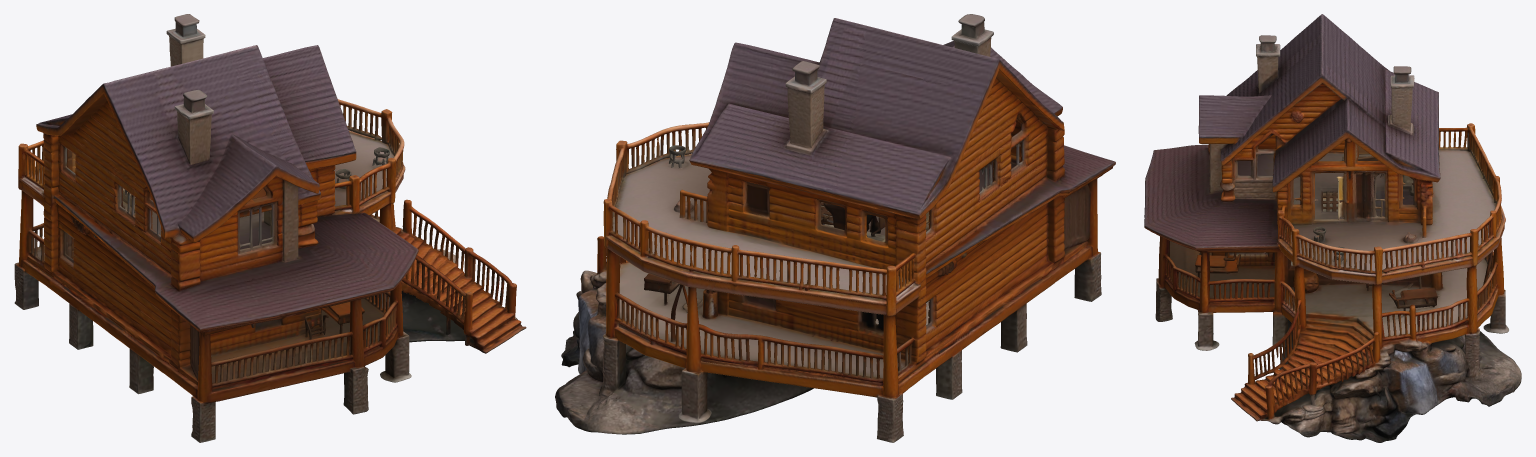
Rendered from treehouse.glb.
3 views of the same model, side by side, from view 1: azimuth 30°, elevation 25°; view 2: azimuth 150°, elevation 25°; view 3: azimuth 270°, elevation 25° (orthographic). The views are drawn at different scales.
Parts seen in each view (by area): view 1: tripo_node_406b49fd-3309-48c4-9cbc-19fe36ea0146_0; view 2: tripo_node_406b49fd-3309-48c4-9cbc-19fe36ea0146_0; view 3: tripo_node_406b49fd-3309-48c4-9cbc-19fe36ea0146_0.
Boxes of the visible parts, x1,y1,x2,y2 form: tripo_node_406b49fd-3309-48c4-9cbc-19fe36ea0146_0: (14,14,526,442); tripo_node_406b49fd-3309-48c4-9cbc-19fe36ea0146_0: (555,14,1115,442); tripo_node_406b49fd-3309-48c4-9cbc-19fe36ea0146_0: (1144,14,1521,442).
Bounding box in the file's own units: 1 × 0.815 × 0.9911.
1 material, 1 textured.
